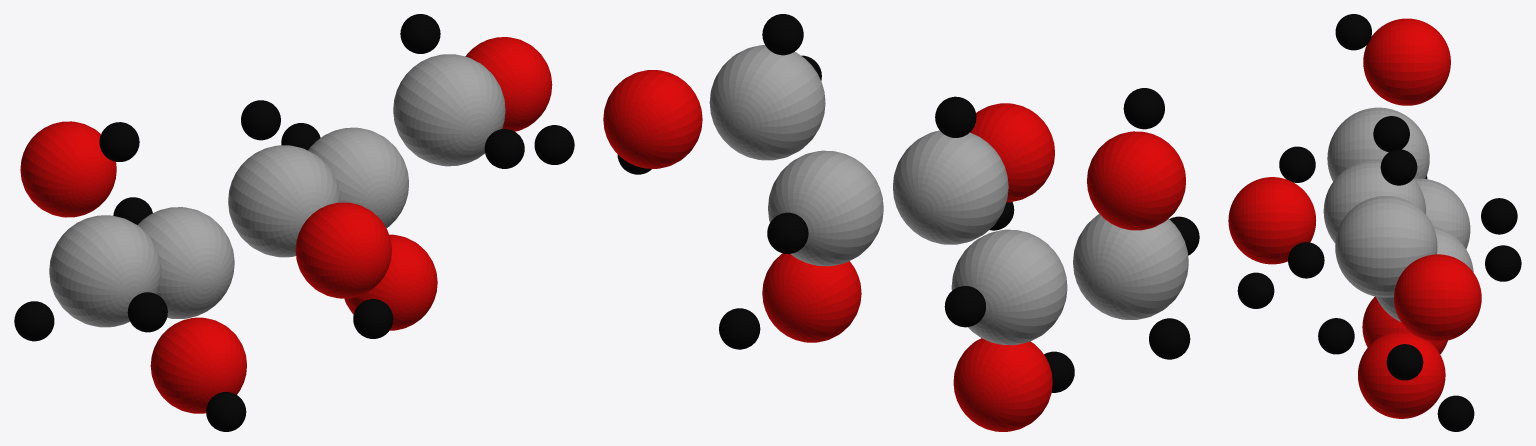
File: Fructose.glb
3 views of the same model, side by side, from view 1: azimuth 30°, elevation 25°; view 2: azimuth 150°, elevation 25°; view 3: azimuth 270°, elevation 25° (orthographic). The views are drawn at different scales.
Parts seen in each view (by area): view 1: world; view 2: world; view 3: world.
Part boxes in pixels (box(x1,y1,x2,y2)): world: box(14, 14, 574, 431); world: box(603, 14, 1199, 431); world: box(1228, 14, 1521, 431).
Bounding box in the file's own units: 7.95 × 4.71 × 4.01.
